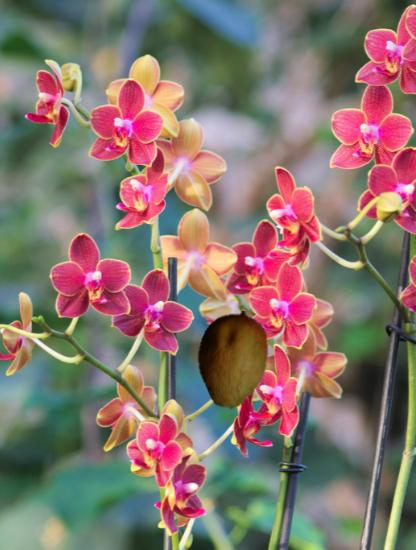Papaya: (183, 311, 282, 410)
